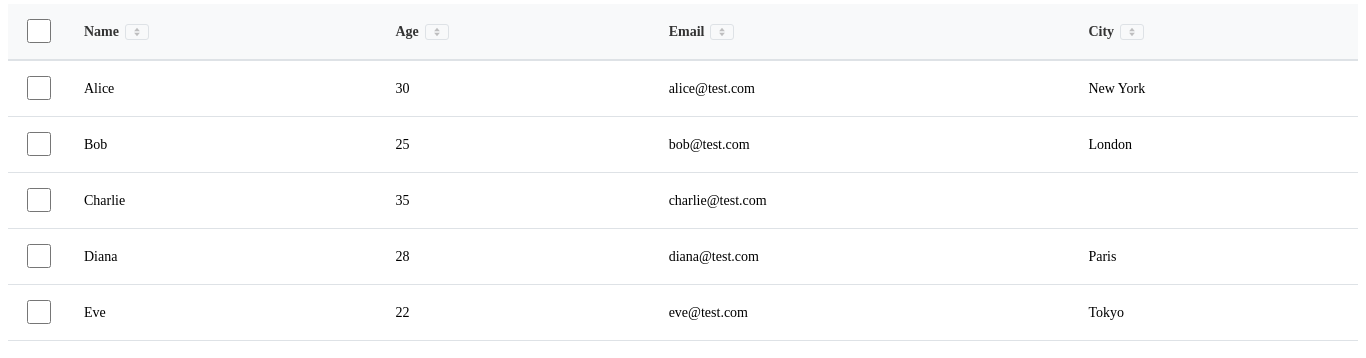
Test case: Table Component › Selection › deselect-all deselects all rows
The width and height of the screenshot is (1366, 358).
What coordinates should you click on to do the following:
click the checkbox named "Select all rows"
I would click on:
 (39, 31)
Its box is [27,19,51,43].
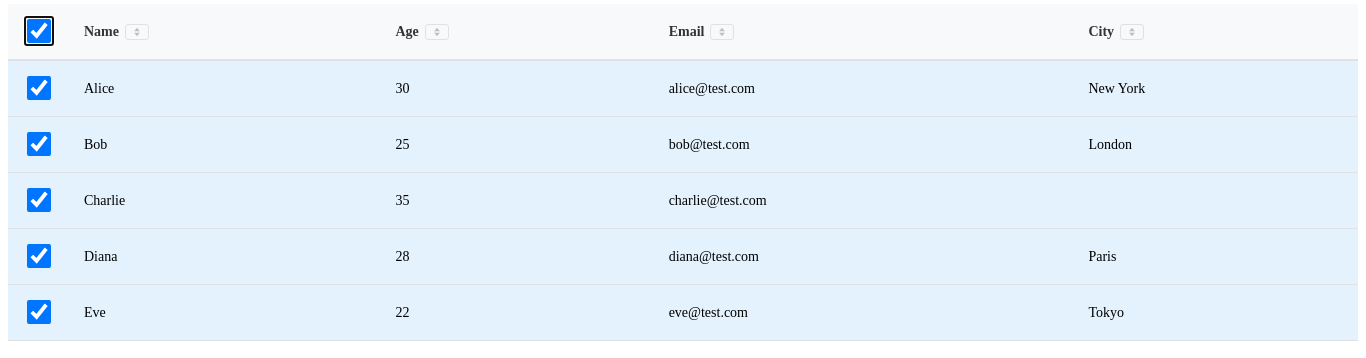
What coordinates should you click on to do the following:
click the checkbox named "Select all rows"
I would click on:
 (39, 31)
Its box is [27,19,51,43].
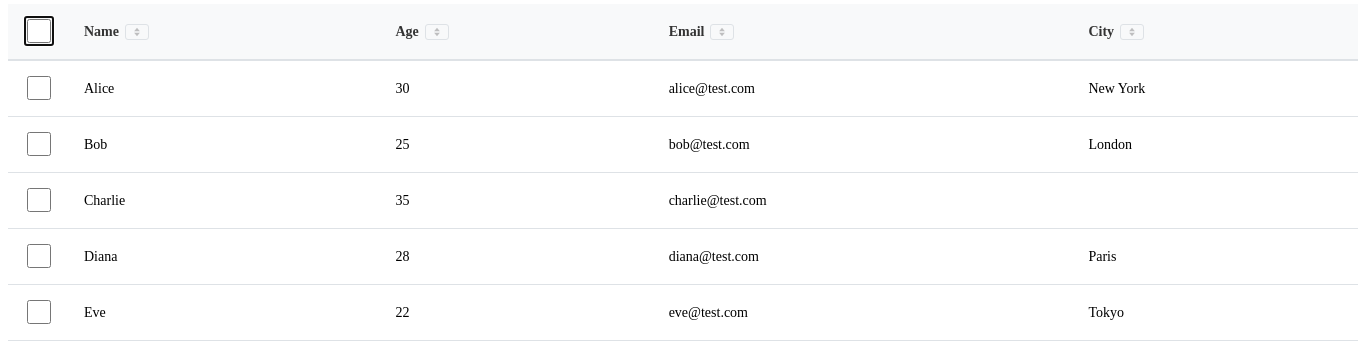
Expected: the checkbox named "Select row 1" is not checked, [27,76,51,100]
Expected: the checkbox named "Select row 2" is not checked, [27,132,51,156]
Expected: the checkbox named "Select row 3" is not checked, [27,188,51,212]
